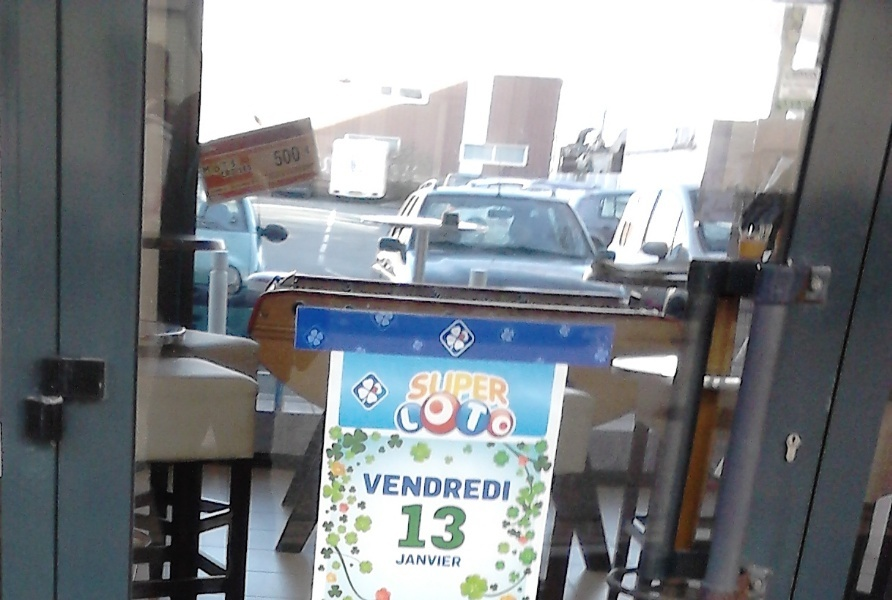text: (401, 501, 416, 551), (417, 501, 432, 551), (433, 501, 448, 551), (449, 501, 464, 551), (401, 394, 416, 437), (417, 394, 432, 437), (433, 394, 448, 437), (449, 394, 464, 437), (465, 394, 480, 437), (481, 394, 496, 437), (497, 394, 512, 437), (417, 368, 432, 407), (433, 368, 448, 407), (449, 368, 464, 407), (465, 368, 480, 407), (481, 368, 496, 407), (497, 368, 512, 407), (273, 140, 288, 173), (289, 140, 304, 173), (369, 472, 384, 502), (385, 472, 400, 502), (401, 472, 416, 502), (417, 472, 432, 502), (433, 472, 448, 502), (449, 472, 464, 502), (465, 472, 480, 502), (481, 472, 496, 502), (497, 472, 512, 502), (209, 156, 224, 179), (225, 156, 239, 179), (225, 164, 240, 181), (410, 368, 416, 407), (401, 553, 416, 568), (417, 553, 432, 568), (433, 553, 448, 568), (395, 394, 400, 437), (513, 394, 518, 437), (449, 553, 463, 568), (199, 156, 208, 179), (241, 164, 252, 181), (362, 472, 368, 502), (465, 501, 468, 551), (217, 164, 224, 181), (513, 368, 516, 407), (393, 553, 400, 568), (513, 472, 516, 502), (305, 140, 307, 173)
